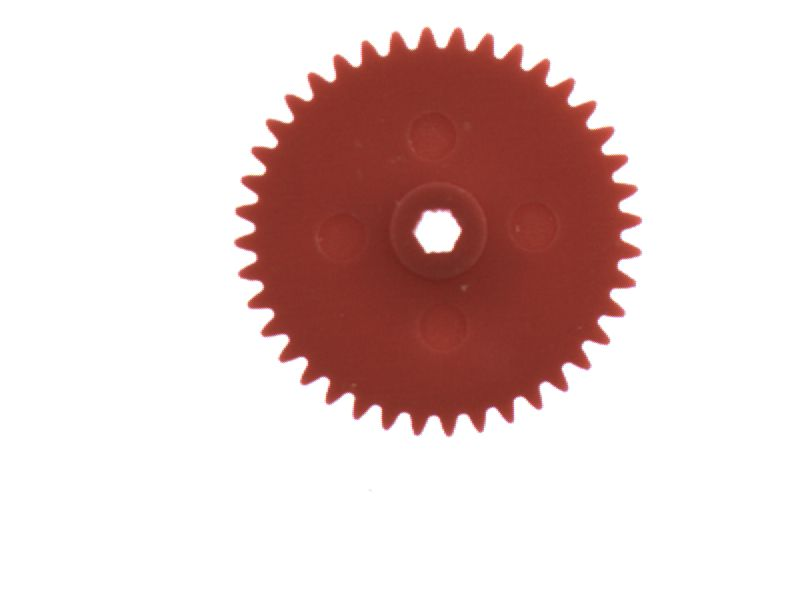good_product: (226, 19, 661, 446)
